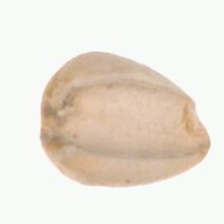L1: (184, 96, 213, 161), (36, 92, 63, 151)
L2: (39, 50, 212, 188)
